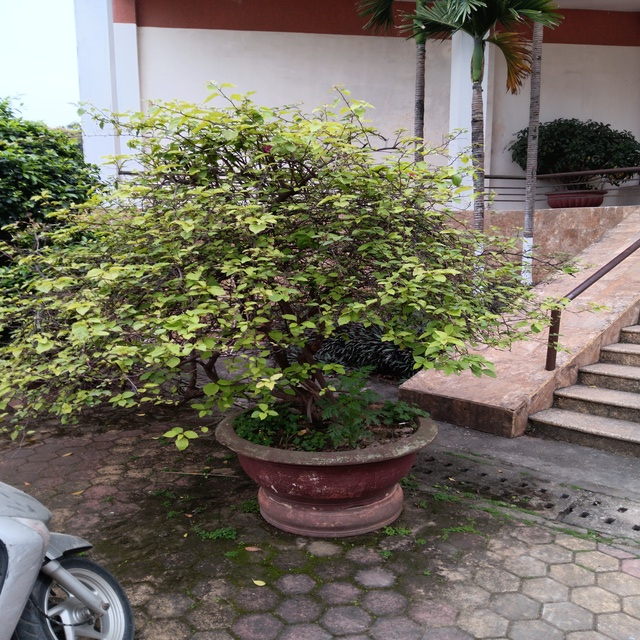caycanh: (4, 81, 564, 540)
